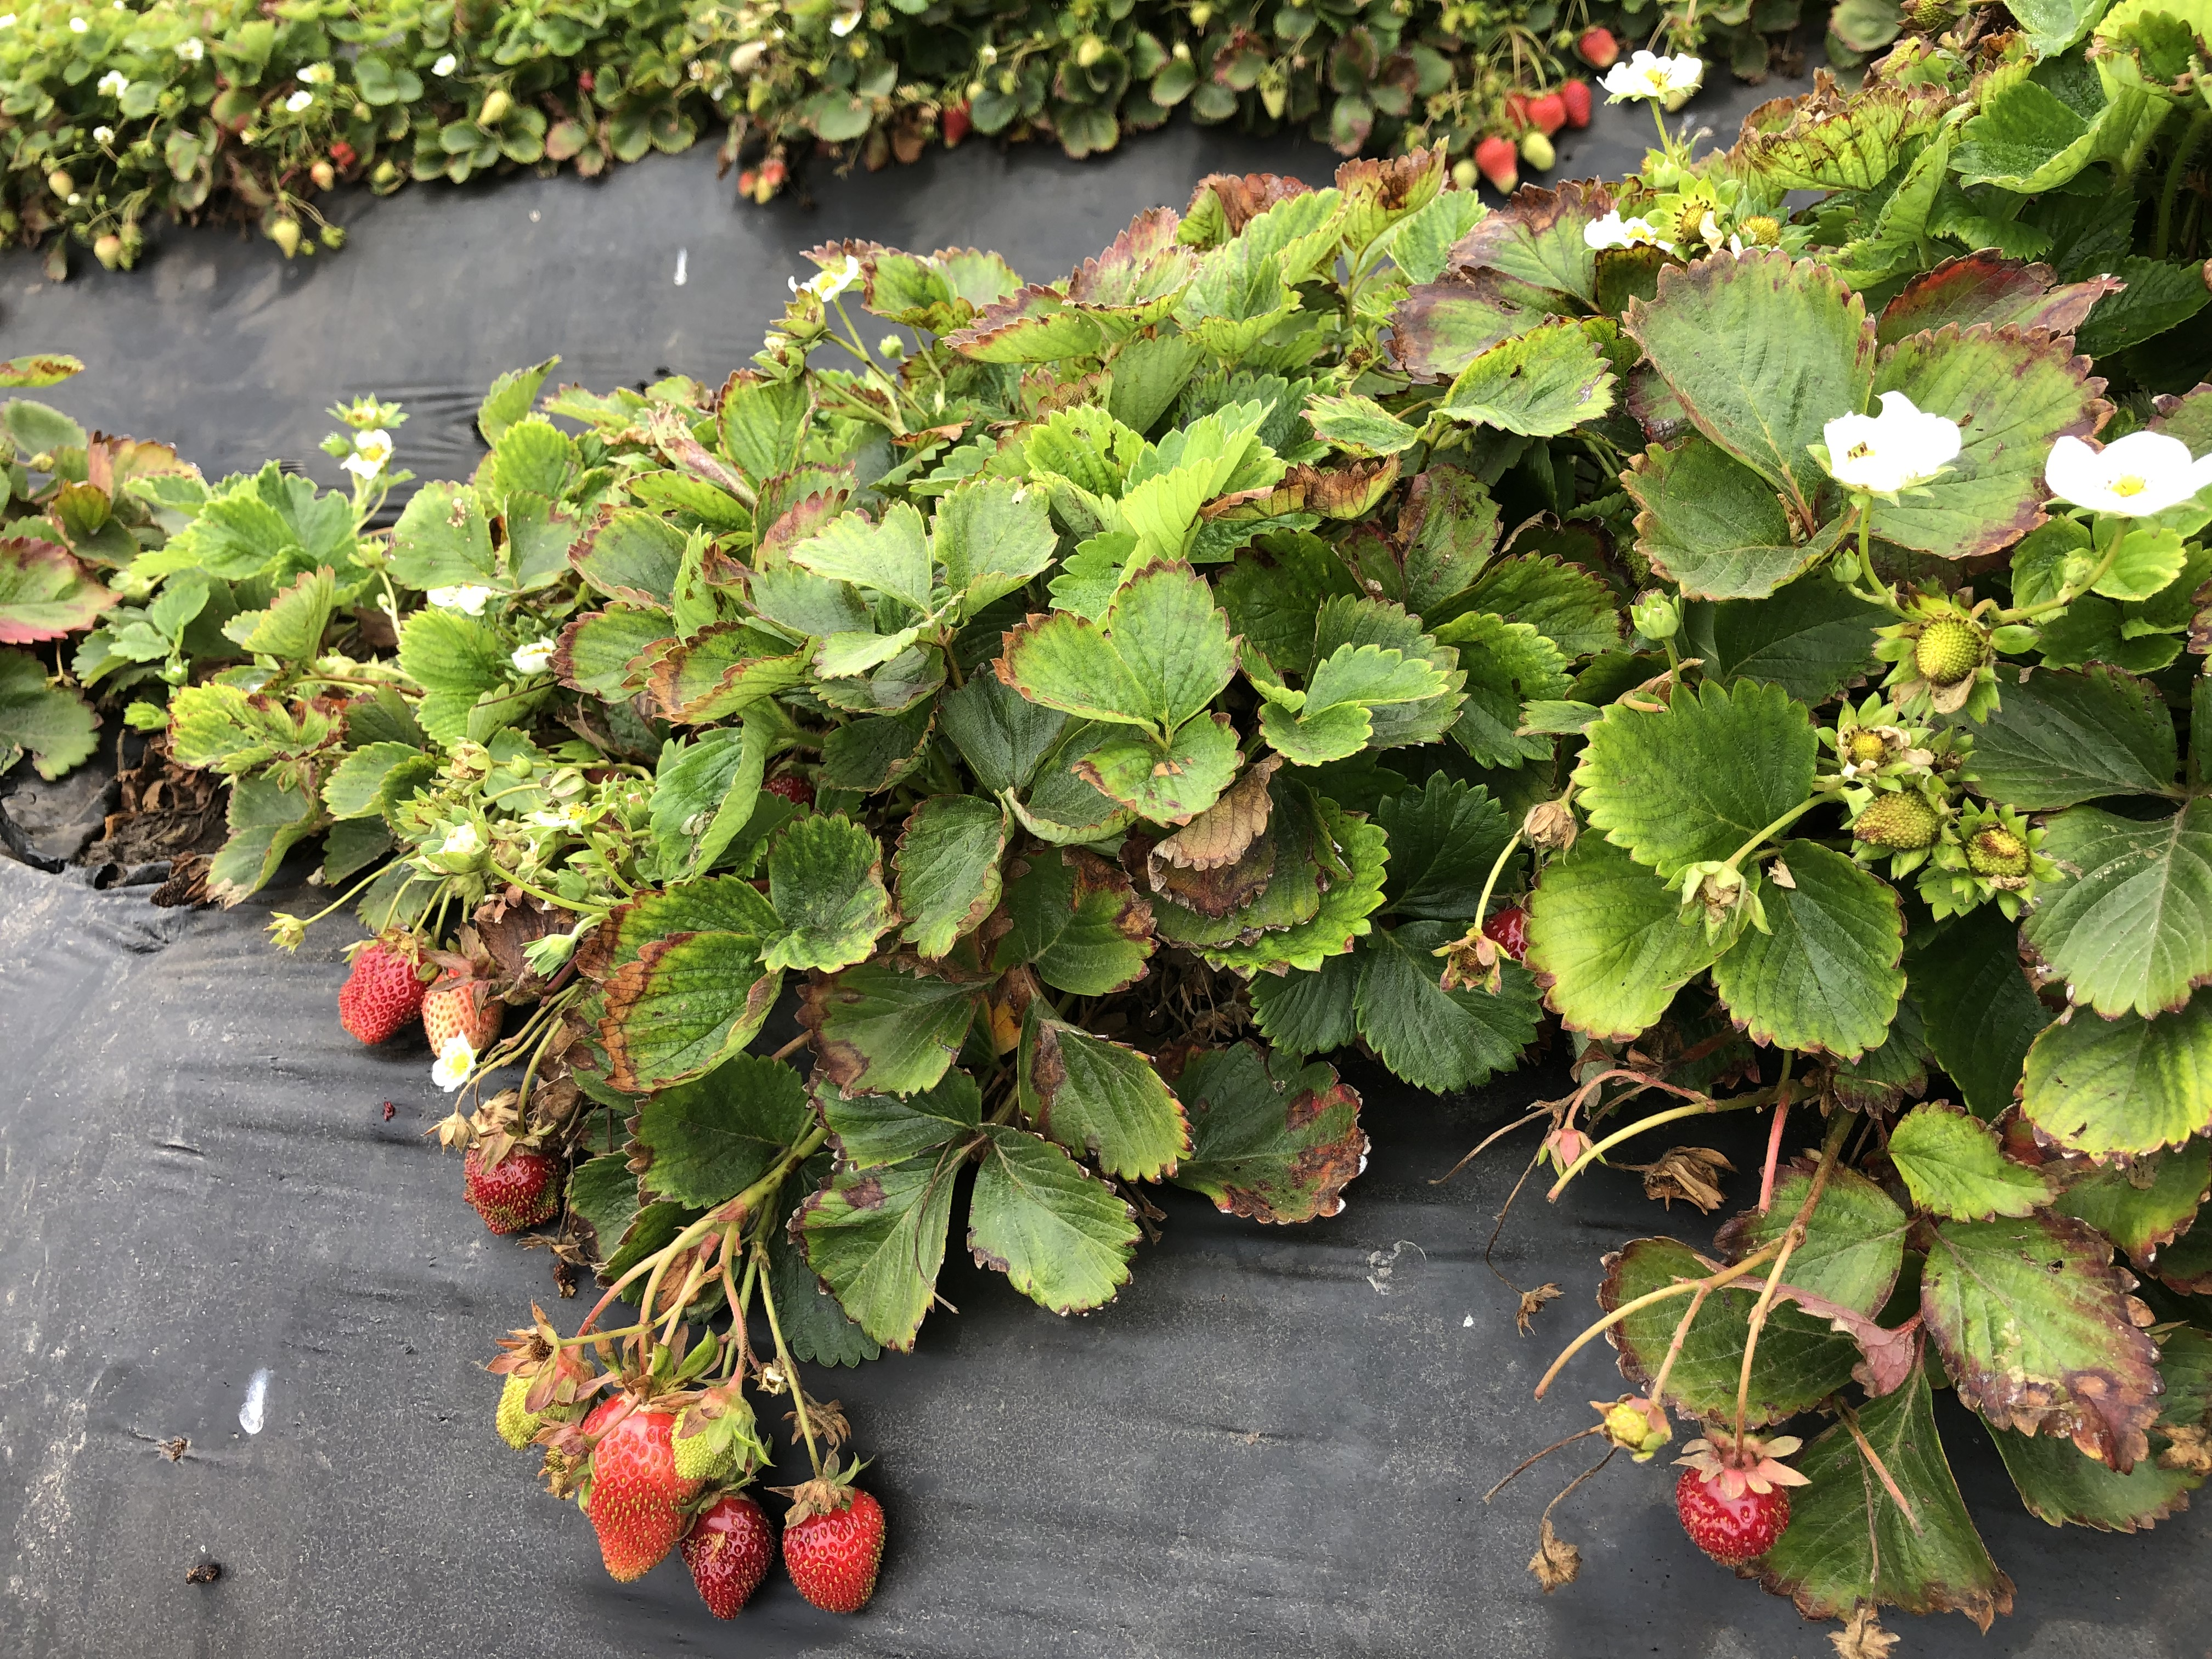ripe_strawberry: (573, 1382, 716, 1586), (772, 1469, 895, 1621), (1670, 1439, 1799, 1570), (676, 1485, 777, 1624), (327, 920, 434, 1049), (458, 1133, 570, 1241), (1470, 129, 1521, 197), (1480, 903, 1534, 962), (1575, 23, 1622, 70), (939, 89, 972, 153), (1521, 89, 1571, 131), (1554, 78, 1595, 125), (1500, 84, 1533, 131)
unripe_strawberry: (488, 1337, 599, 1453), (421, 957, 514, 1061), (669, 1385, 756, 1483), (1843, 781, 1944, 861), (1914, 608, 1986, 694), (1956, 819, 2045, 887), (1254, 70, 1292, 124), (268, 214, 307, 263), (1517, 131, 1557, 176), (94, 235, 127, 272), (1447, 159, 1479, 195)
